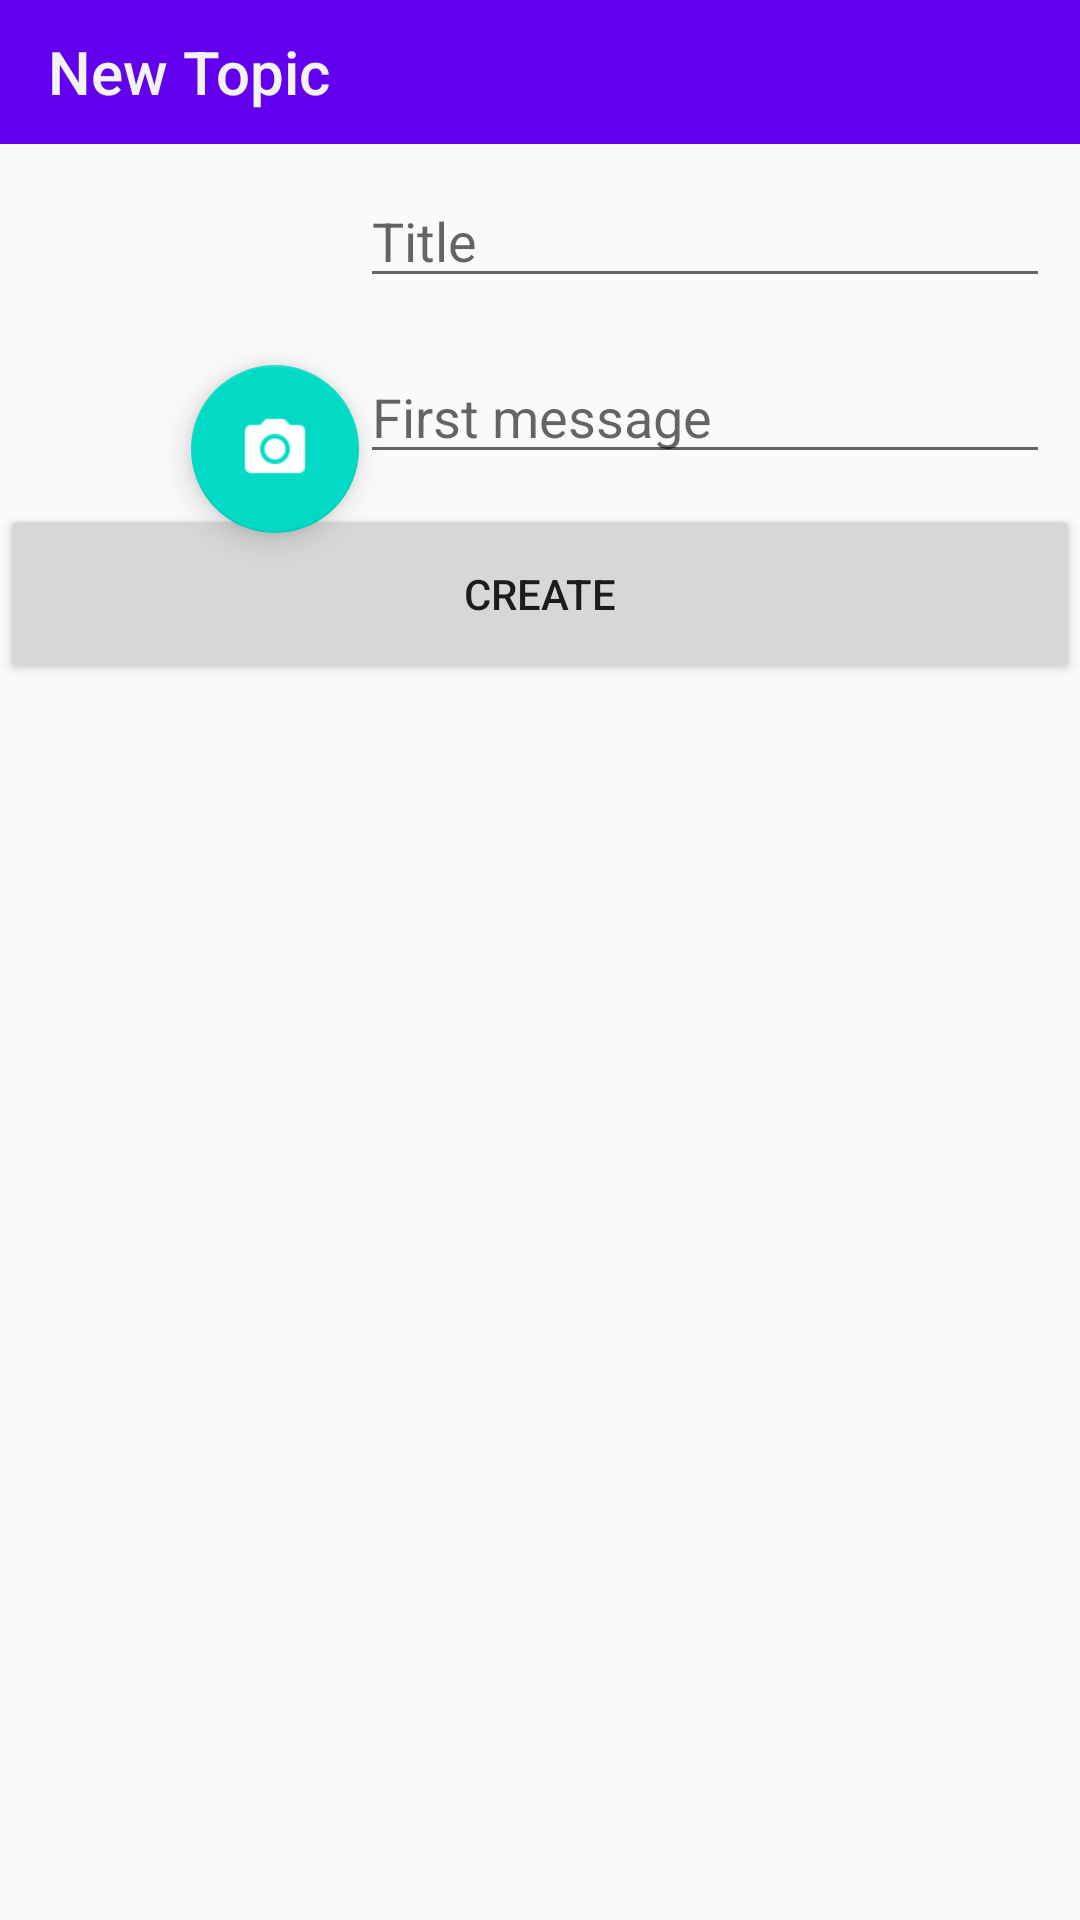

Named icons in this screenshot (1080x1920) and their bounding boxes, region(x1, y1, x2, y2):
cam: region(191, 365, 359, 533)
